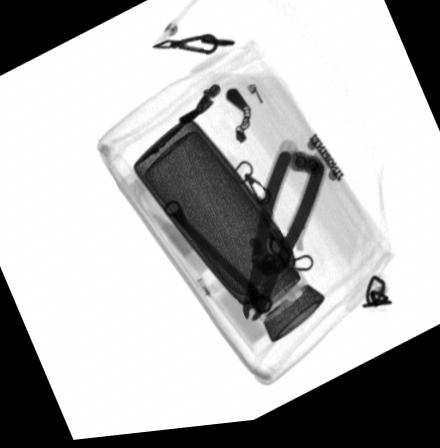Pliers: (239, 155, 326, 329)
Wrench: (161, 202, 274, 323)
